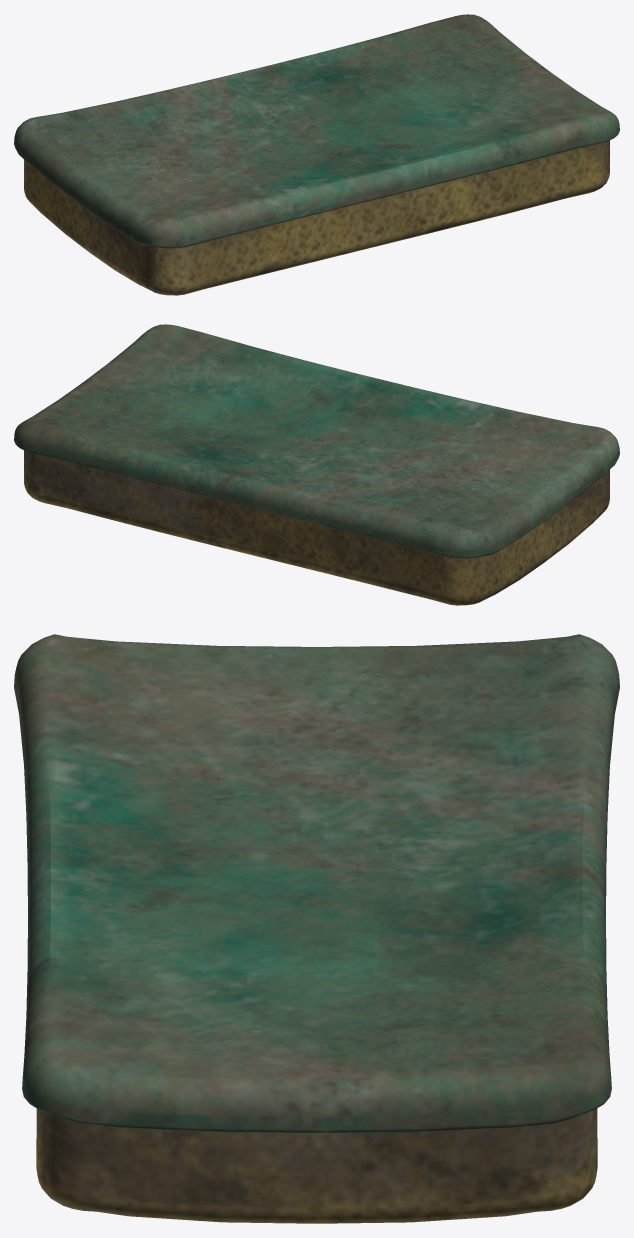
Rendered from sponge_only.gltf.
3 renders of one model, top to bottom at view 1: azimuth 30°, elevation 25°; view 2: azimuth 150°, elevation 25°; view 3: azimuth 270°, elevation 25°, orthographic. The views are drawn at different scales.
Parts seen in each view (by area): view 1: DishSpongeOnly; view 2: DishSpongeOnly; view 3: DishSpongeOnly.
Boxes of the visible parts, x1=… form: DishSpongeOnly: x1=14, y1=14, x2=619, y2=295; DishSpongeOnly: x1=14, y1=324, x2=619, y2=605; DishSpongeOnly: x1=14, y1=634, x2=619, y2=1223.
Size of the model in its own units: 2.11 by 0.366 by 1.19.
1 material, 1 textured.
